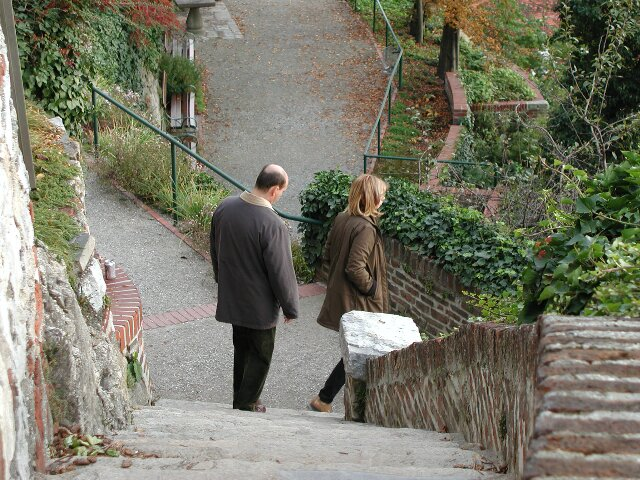person: (211, 161, 300, 417), (311, 172, 396, 418)
